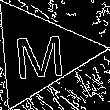M_N: (12, 26, 67, 80)
